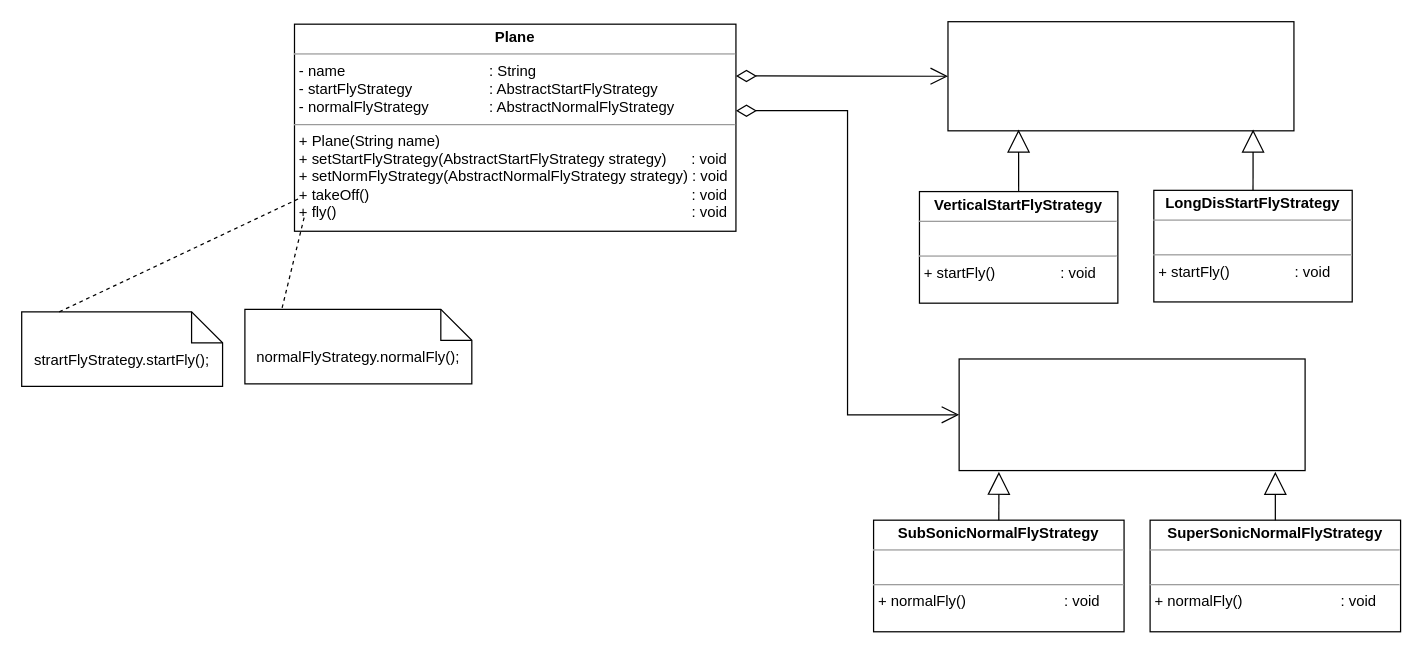
Image size: 1422x653. Some labels were removed from this diagram. The shapes that lost their labels are listed below. From the top down, each one's centre as x and y in pixels, then its label:
At pixel 1120 75: "AbstractStartFlyStrategy {abstract} + startFly() : void".
At pixel 1131 414: "AbstractNormalFlyStrategy {abstract} + normalFly() : void".
